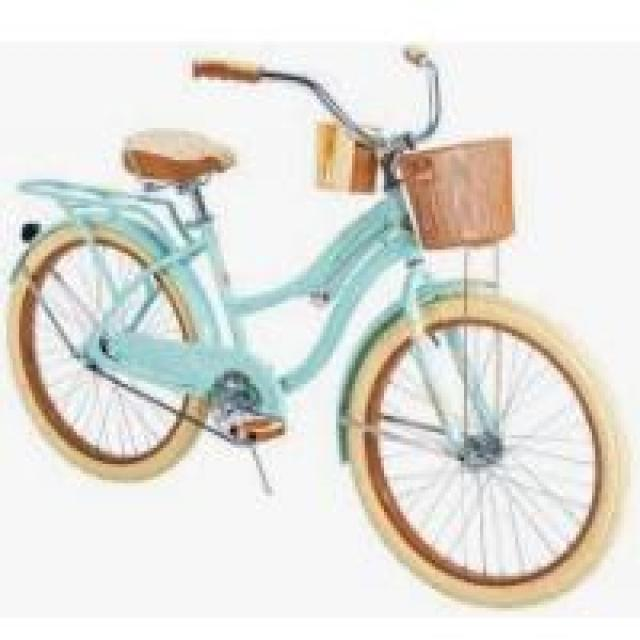bicycle: (17, 49, 625, 612)
